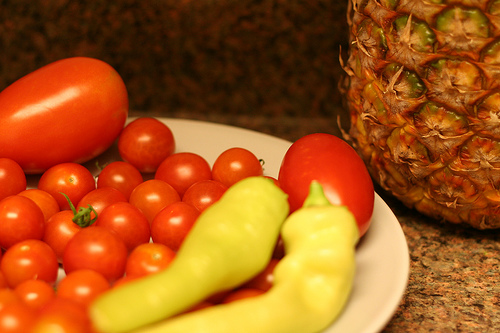pineapple: (336, 0, 499, 233)
